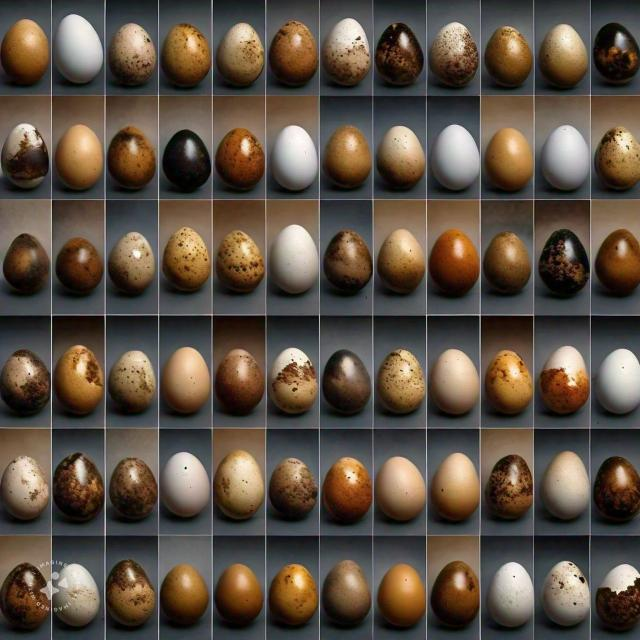Brown Egg: (489, 118, 550, 216), (159, 555, 229, 640), (378, 448, 442, 533), (160, 336, 214, 424), (51, 126, 108, 202), (1, 14, 54, 92), (430, 344, 476, 432), (380, 555, 426, 638)
Dirt Stained Egg: (534, 545, 597, 637), (316, 8, 378, 94), (52, 450, 111, 540), (55, 335, 112, 427), (2, 215, 60, 304), (269, 554, 327, 640), (270, 334, 330, 417), (368, 228, 423, 318), (266, 440, 318, 534), (423, 5, 479, 92), (537, 232, 591, 321), (430, 549, 480, 640), (478, 218, 528, 308), (153, 13, 212, 87), (481, 20, 535, 100), (206, 119, 262, 196), (323, 108, 373, 194), (321, 449, 374, 529), (163, 229, 210, 318), (536, 21, 592, 95), (596, 544, 640, 638), (488, 343, 536, 429), (536, 350, 584, 436), (56, 229, 110, 305), (373, 10, 423, 92), (220, 228, 266, 317), (112, 229, 160, 311), (100, 457, 154, 527), (110, 12, 157, 92), (590, 9, 640, 84), (482, 447, 532, 522), (214, 16, 264, 90), (0, 345, 44, 429), (591, 236, 635, 320), (108, 556, 153, 638), (59, 553, 105, 633), (592, 452, 640, 528), (224, 442, 264, 532), (590, 126, 640, 196), (265, 19, 311, 95), (430, 229, 474, 307), (323, 234, 370, 307), (383, 344, 428, 420), (328, 347, 371, 426), (5, 114, 48, 192), (169, 116, 209, 198), (115, 116, 152, 204), (117, 347, 160, 422), (10, 549, 45, 640), (220, 339, 262, 410), (387, 124, 428, 193), (13, 446, 46, 518)
White Egg: (260, 216, 318, 322), (477, 548, 546, 634), (538, 112, 593, 201), (260, 121, 320, 202), (433, 117, 480, 211), (592, 344, 640, 428), (56, 16, 111, 88)
